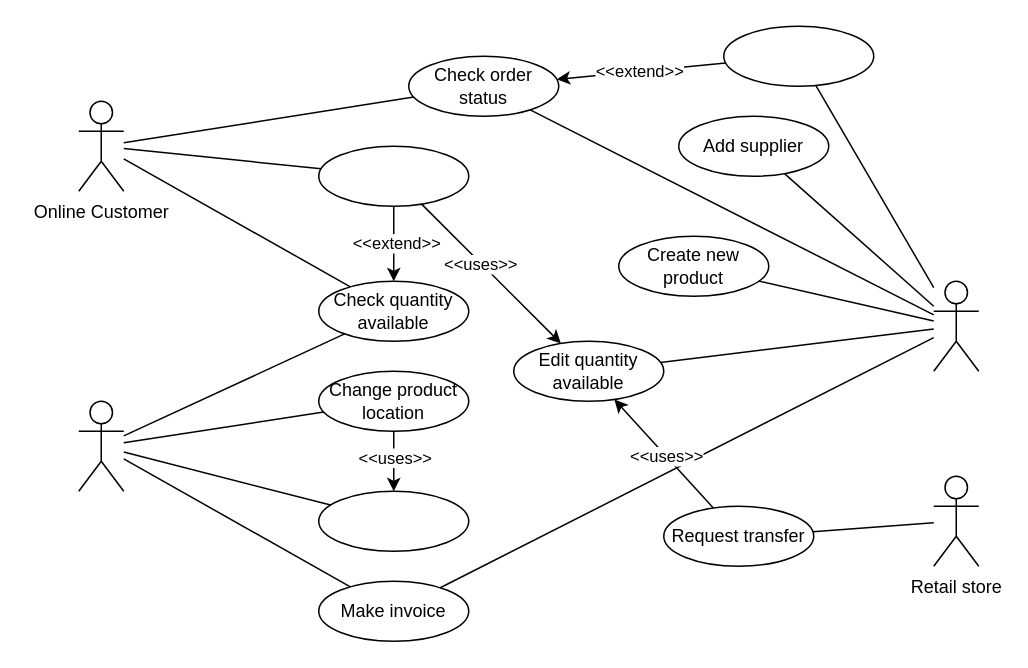
The diagram is 1028 pixels wide and 668 high, and some of its shapes have lost their labels. The centre of each missing label's shape, as x and y in pixels:
Change order status: (x=798, y=55)
Check product location: (x=393, y=520)
Order product: (x=393, y=175)
Warehouse Manager: (x=955, y=325)
Warehouse worker: (x=100, y=445)
